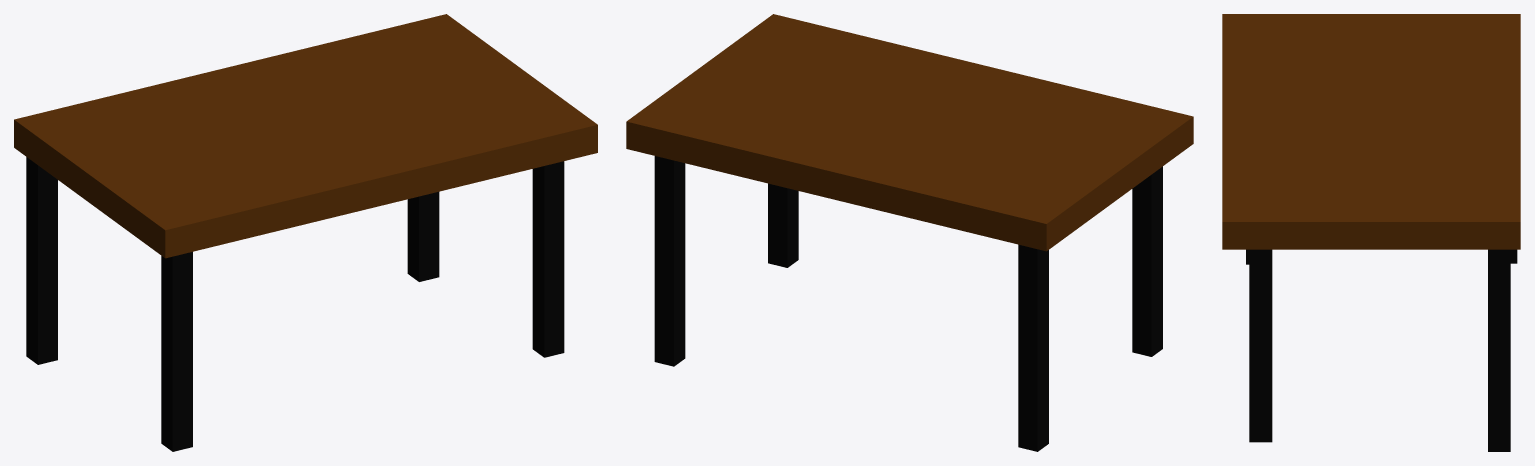
The model's file is tisch.fbx.
3 views of the same model, side by side, from view 1: azimuth 30°, elevation 25°; view 2: azimuth 150°, elevation 25°; view 3: azimuth 270°, elevation 25° (orthographic). The views are drawn at different scales.
Visible parts, largest first — view 1: Würfel.006, Würfel.001, Würfel.004, Würfel.002, Würfel.005; view 2: Würfel.006, Würfel.005, Würfel.004, Würfel.002, Würfel.001; view 3: Würfel.006, Würfel.005, Würfel.001.
Boxes of the visible parts, <box> form: Würfel.006: <box>14,14,597,258</box>; Würfel.001: <box>532,161,564,357</box>; Würfel.004: <box>26,157,57,364</box>; Würfel.002: <box>161,252,192,451</box>; Würfel.005: <box>407,191,439,281</box>; Würfel.006: <box>626,14,1193,251</box>; Würfel.005: <box>654,156,685,366</box>; Würfel.004: <box>1018,244,1048,451</box>; Würfel.002: <box>1132,166,1162,356</box>; Würfel.001: <box>768,183,798,267</box>; Würfel.006: <box>1222,14,1520,249</box>; Würfel.005: <box>1488,249,1510,451</box>; Würfel.001: <box>1249,249,1272,442</box>.
Bounding box in the file's own units: 3399 × 1842 × 2059.
